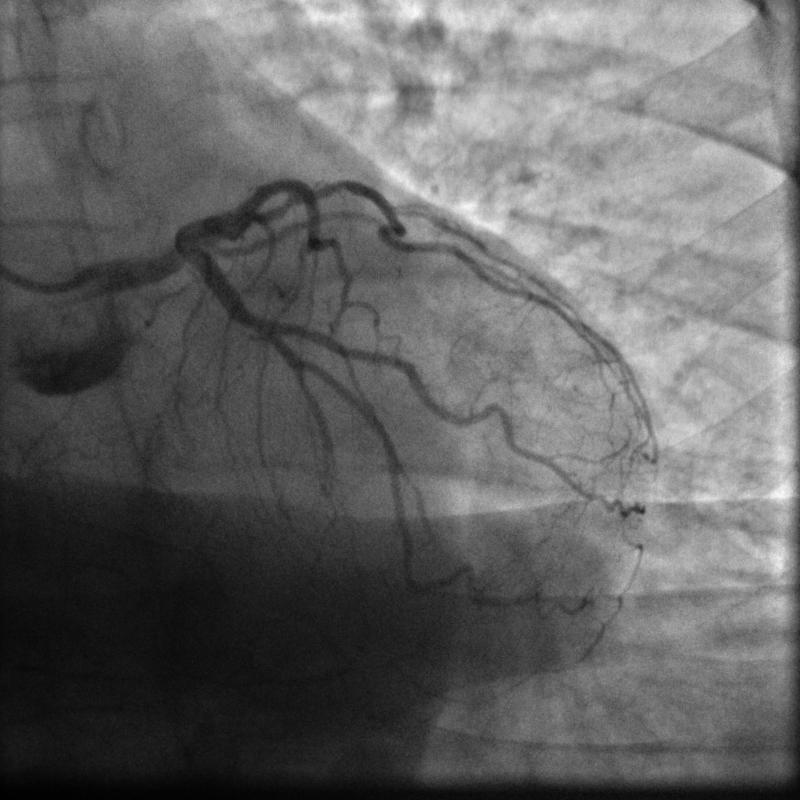Stenosis: (237, 293, 265, 355)
